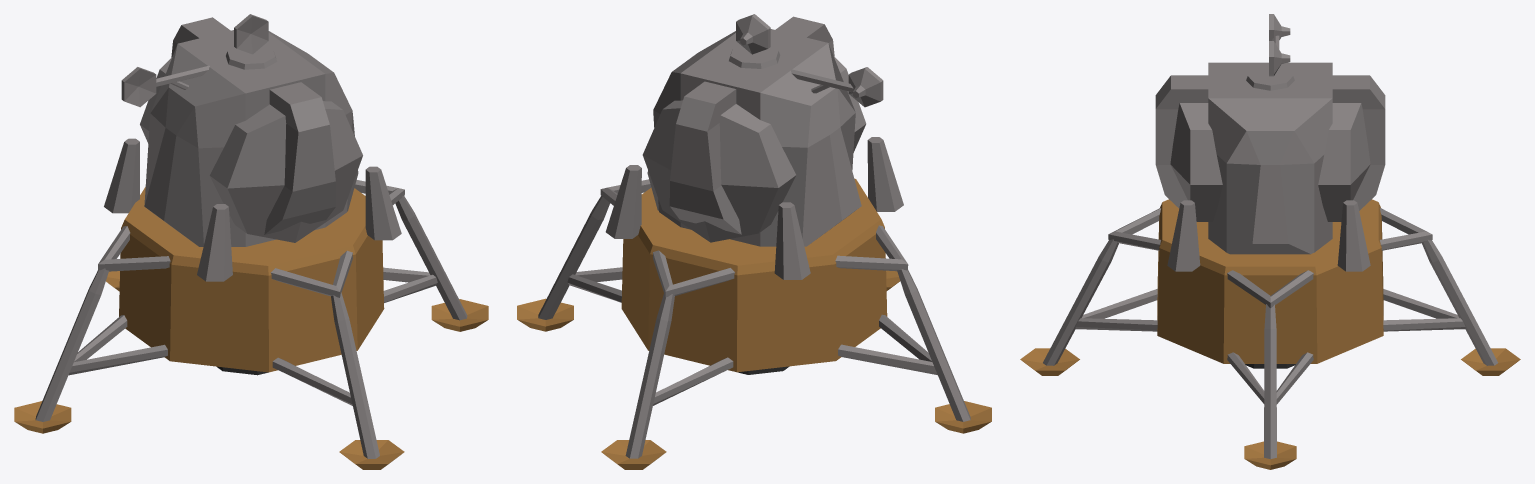
The model's file is space_rocket-module.fbx.
3 views of the same model, side by side, from view 1: azimuth 30°, elevation 25°; view 2: azimuth 150°, elevation 25°; view 3: azimuth 270°, elevation 25° (orthographic). The views are drawn at different scales.
Visible parts, largest first — view 1: space_rocket_module; view 2: space_rocket_module; view 3: space_rocket_module.
Boxes of the visible parts, x1=… form: space_rocket_module: x1=14, y1=14, x2=488, y2=469; space_rocket_module: x1=517, y1=14, x2=991, y2=469; space_rocket_module: x1=1020, y1=14, x2=1520, y2=469.
Size of the model in its own units: 200 by 146 by 200.
